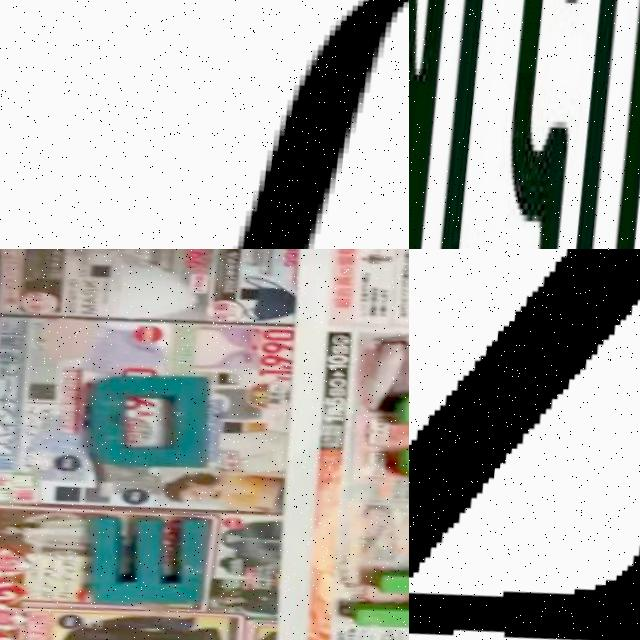1: (415, 0, 523, 249)
5: (483, 0, 602, 249)
D: (556, 0, 640, 249), (82, 367, 222, 484)
F: (54, 0, 409, 249), (356, 543, 409, 640)
M: (84, 510, 212, 619)
N: (409, 0, 465, 249)
Z: (409, 249, 640, 640)
